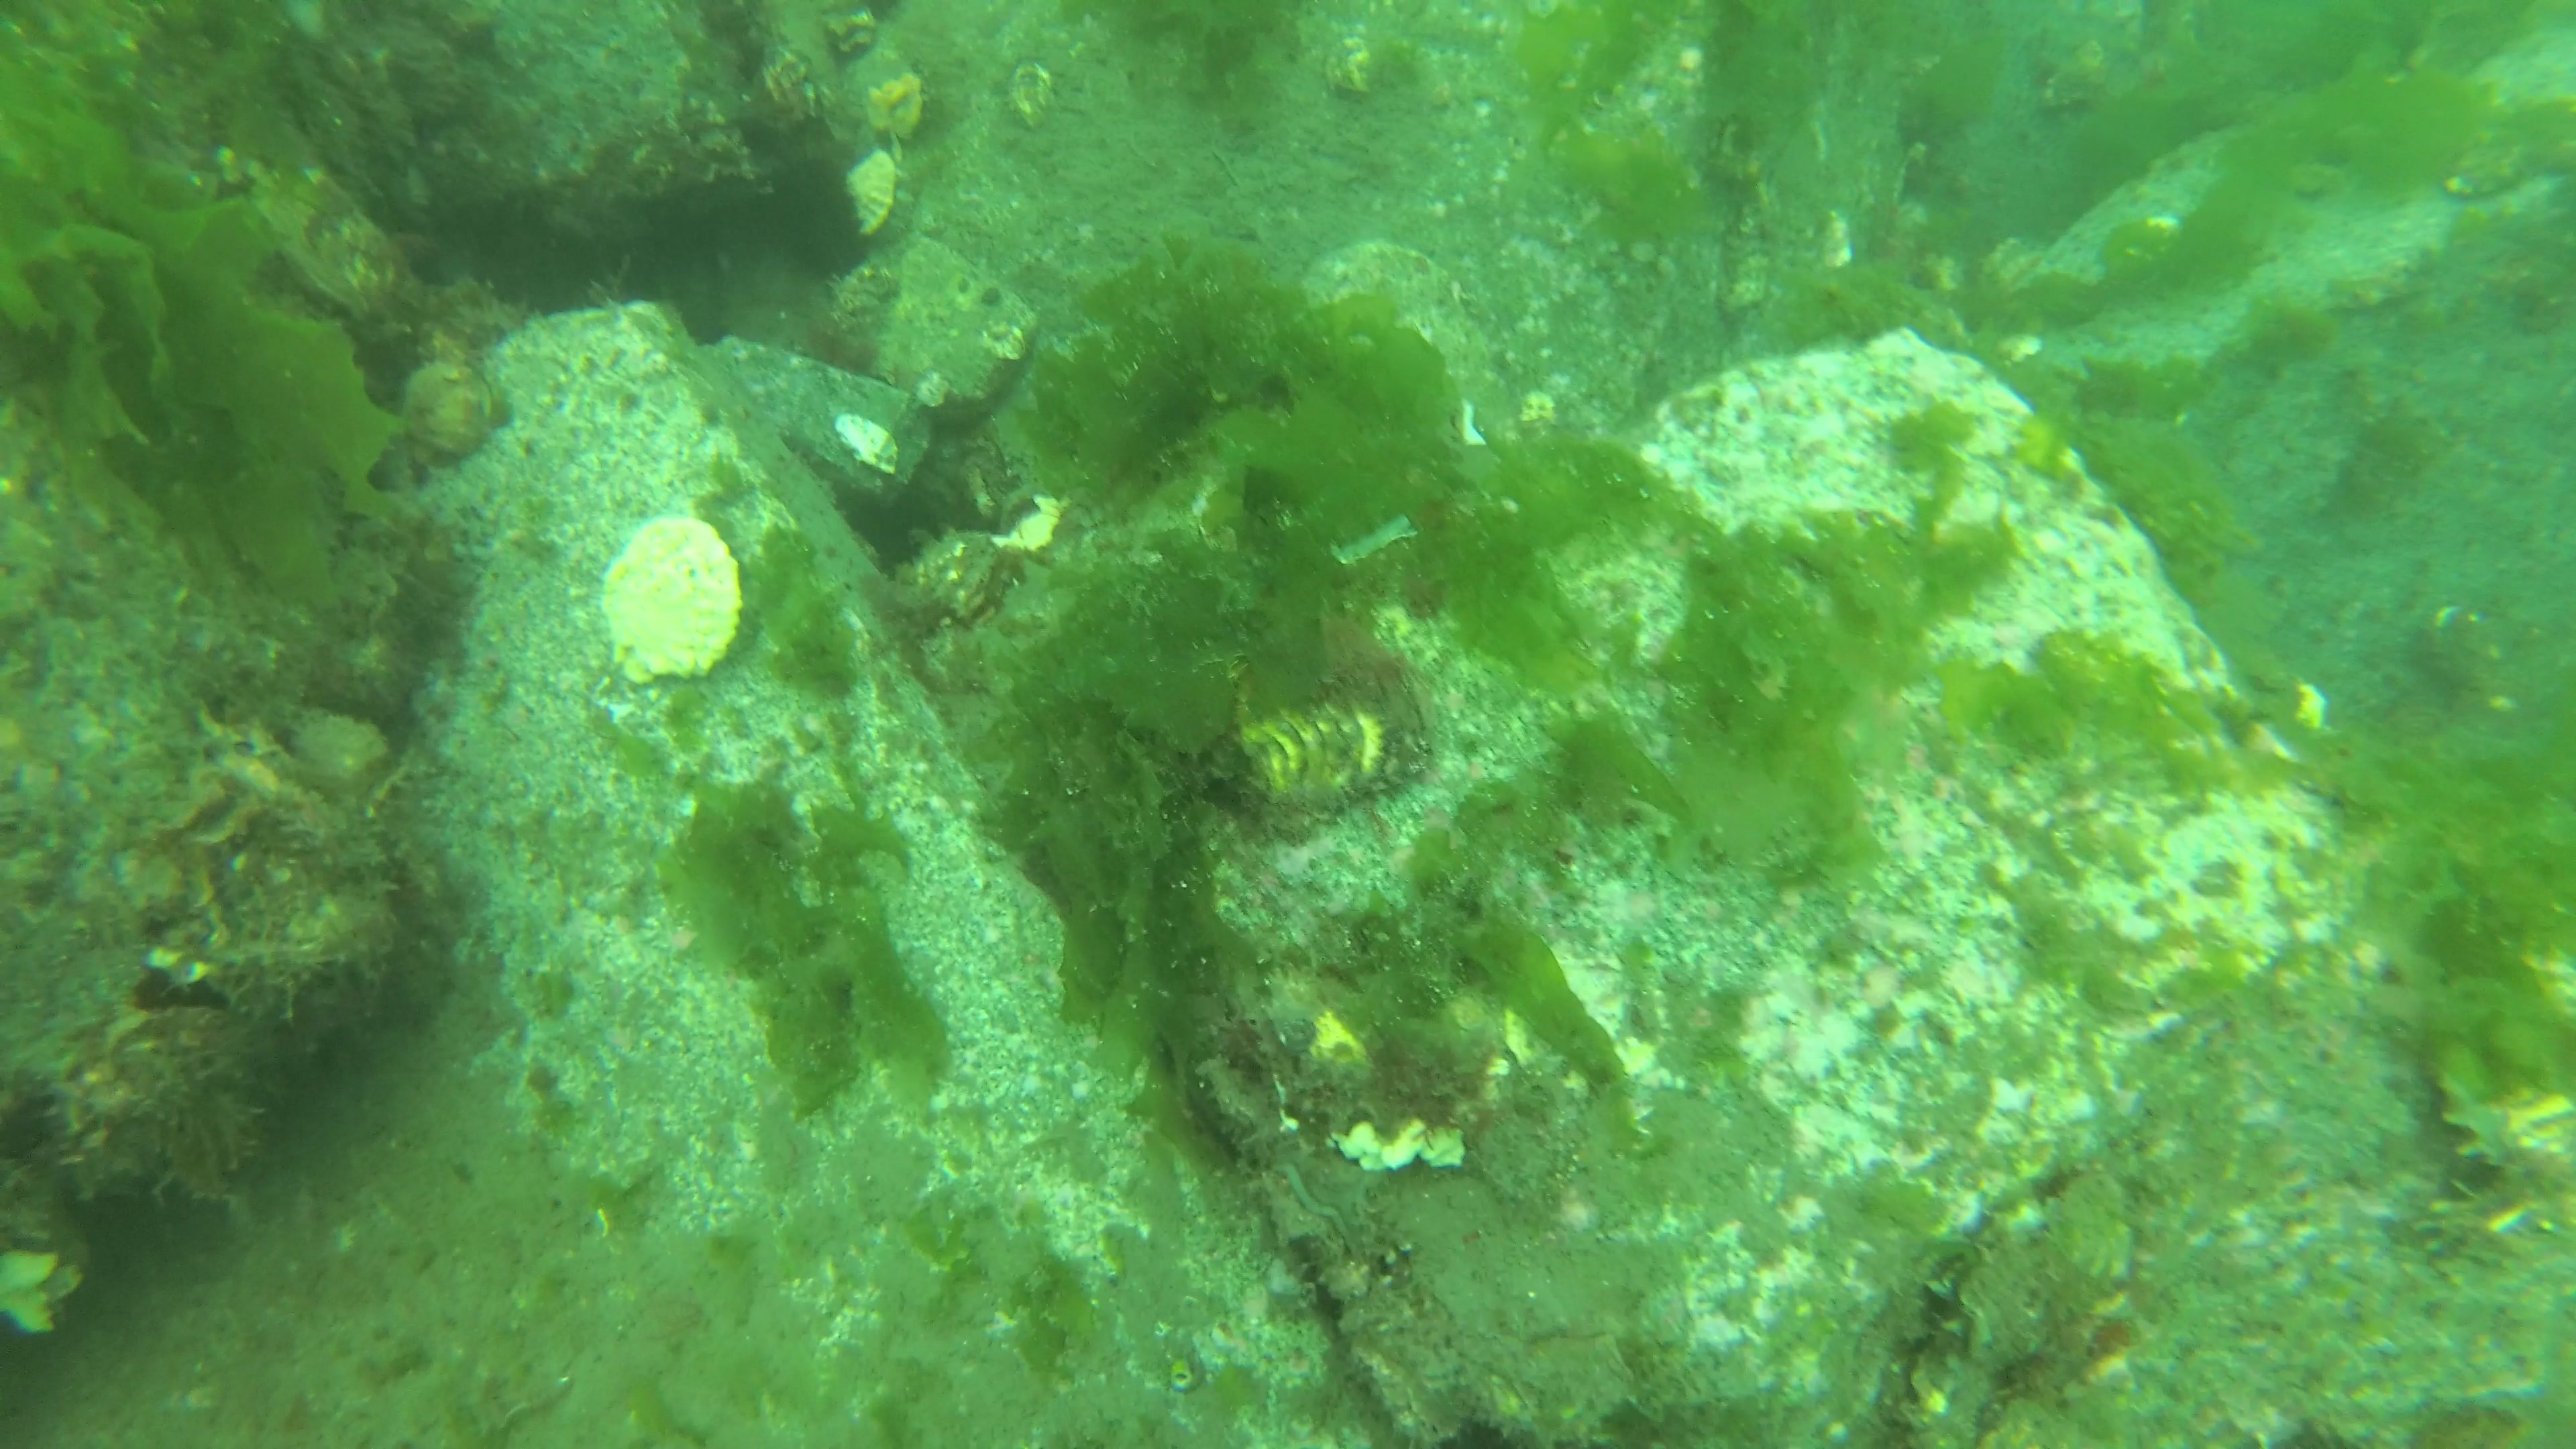echinus: (764, 156, 872, 283)
scallop: (596, 511, 747, 686), (844, 147, 899, 241)
